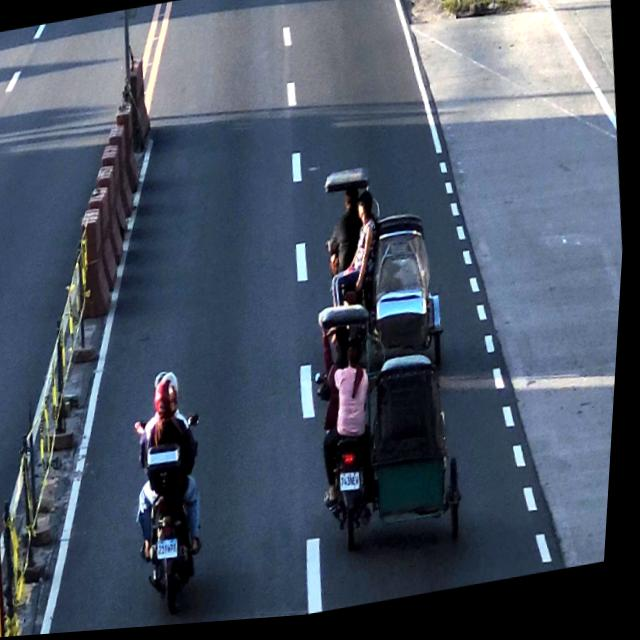License-Plate: (159, 538, 188, 565), (341, 474, 370, 499)
Motorcycle: (127, 369, 221, 615)
Tricycle: (310, 292, 476, 554), (317, 154, 453, 313)
